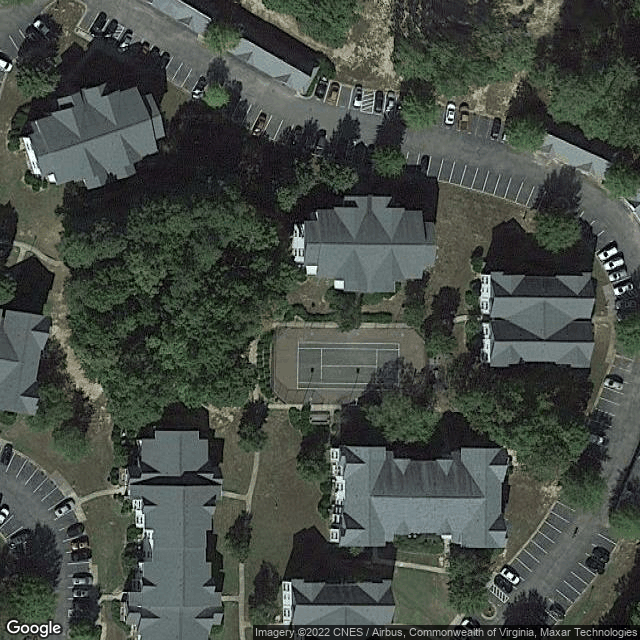Court: (297, 340, 400, 391)
